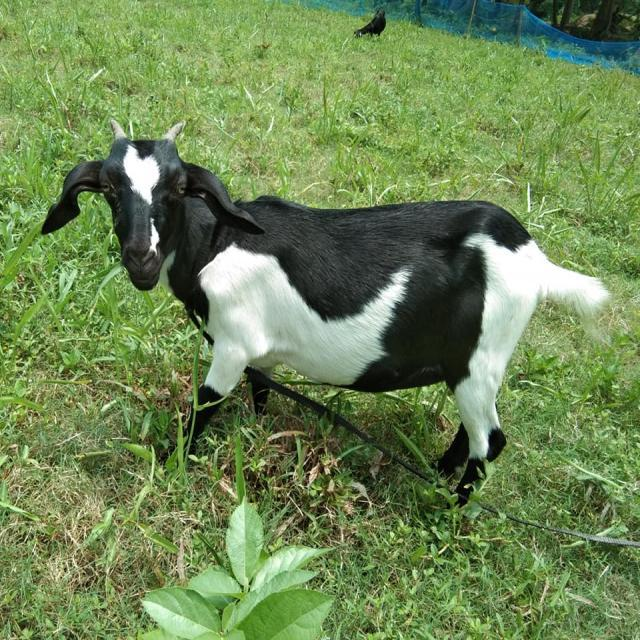Goat: (40, 117, 613, 514)
